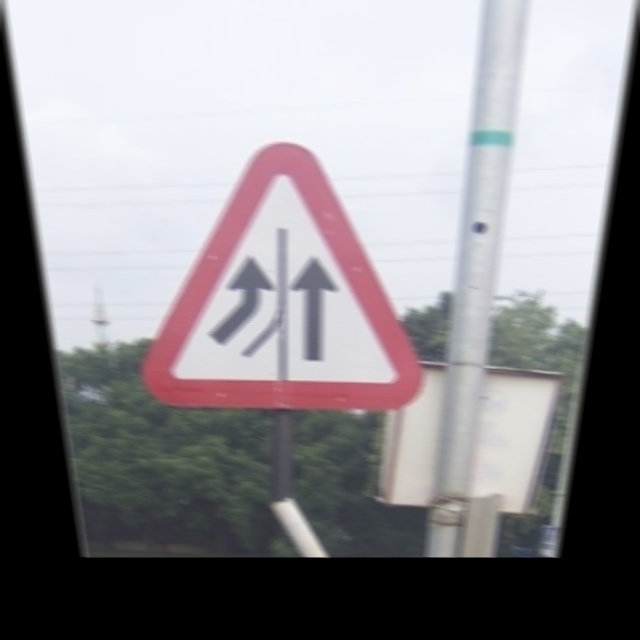Merge_Traffic_Ahead: (113, 136, 446, 422)
